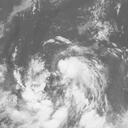cyclone: (54, 55, 99, 97)
